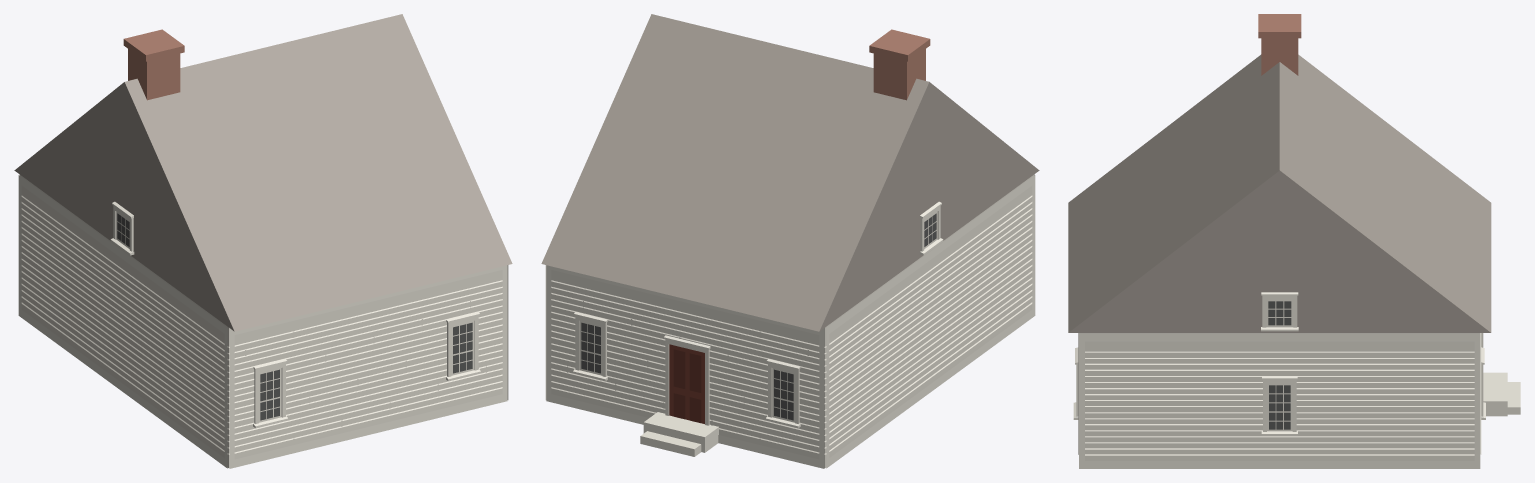
File: recon_1835_north_d6_070__inferred_1835.glb
3 views of the same model, side by side, from view 1: azimuth 30°, elevation 25°; view 2: azimuth 150°, elevation 25°; view 3: azimuth 270°, elevation 25° (orthographic). The views are drawn at different scales.
Parts seen in each view (by area): view 1: recon_1835_north_d6_070__inferred_1835; view 2: recon_1835_north_d6_070__inferred_1835; view 3: recon_1835_north_d6_070__inferred_1835.
Part boxes in pixels (x1,y1,x2,y2): recon_1835_north_d6_070__inferred_1835: [14, 14, 512, 468]; recon_1835_north_d6_070__inferred_1835: [541, 14, 1039, 468]; recon_1835_north_d6_070__inferred_1835: [1068, 14, 1520, 468].
Bounding box in the file's own units: 7.26 × 8.28 × 10.32.
